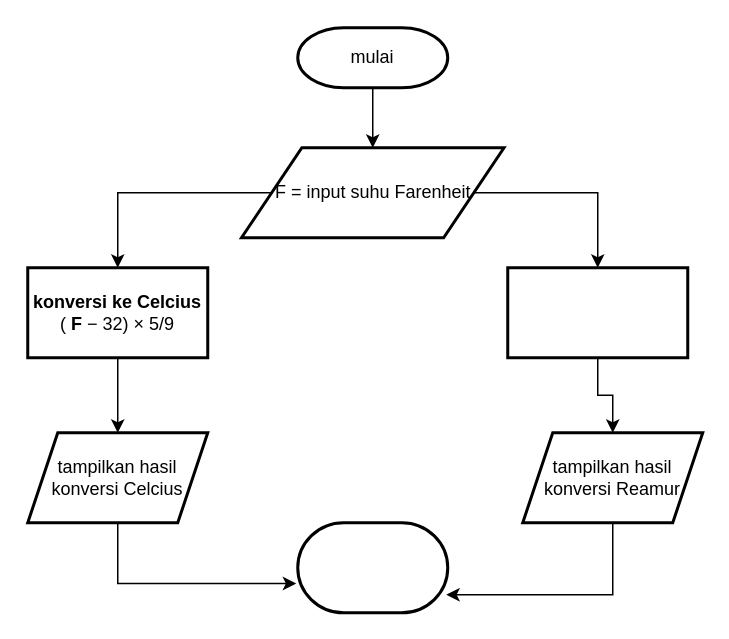
Some shapes in this 729 by 639 pixel diagram are drawn without their labels. Here are the shapes that lost their labels. From the top down, the centre of each, then its label:
(597,312): konversi ke Reamur (4/9) x ( F – 32)
(372,567): selesai
